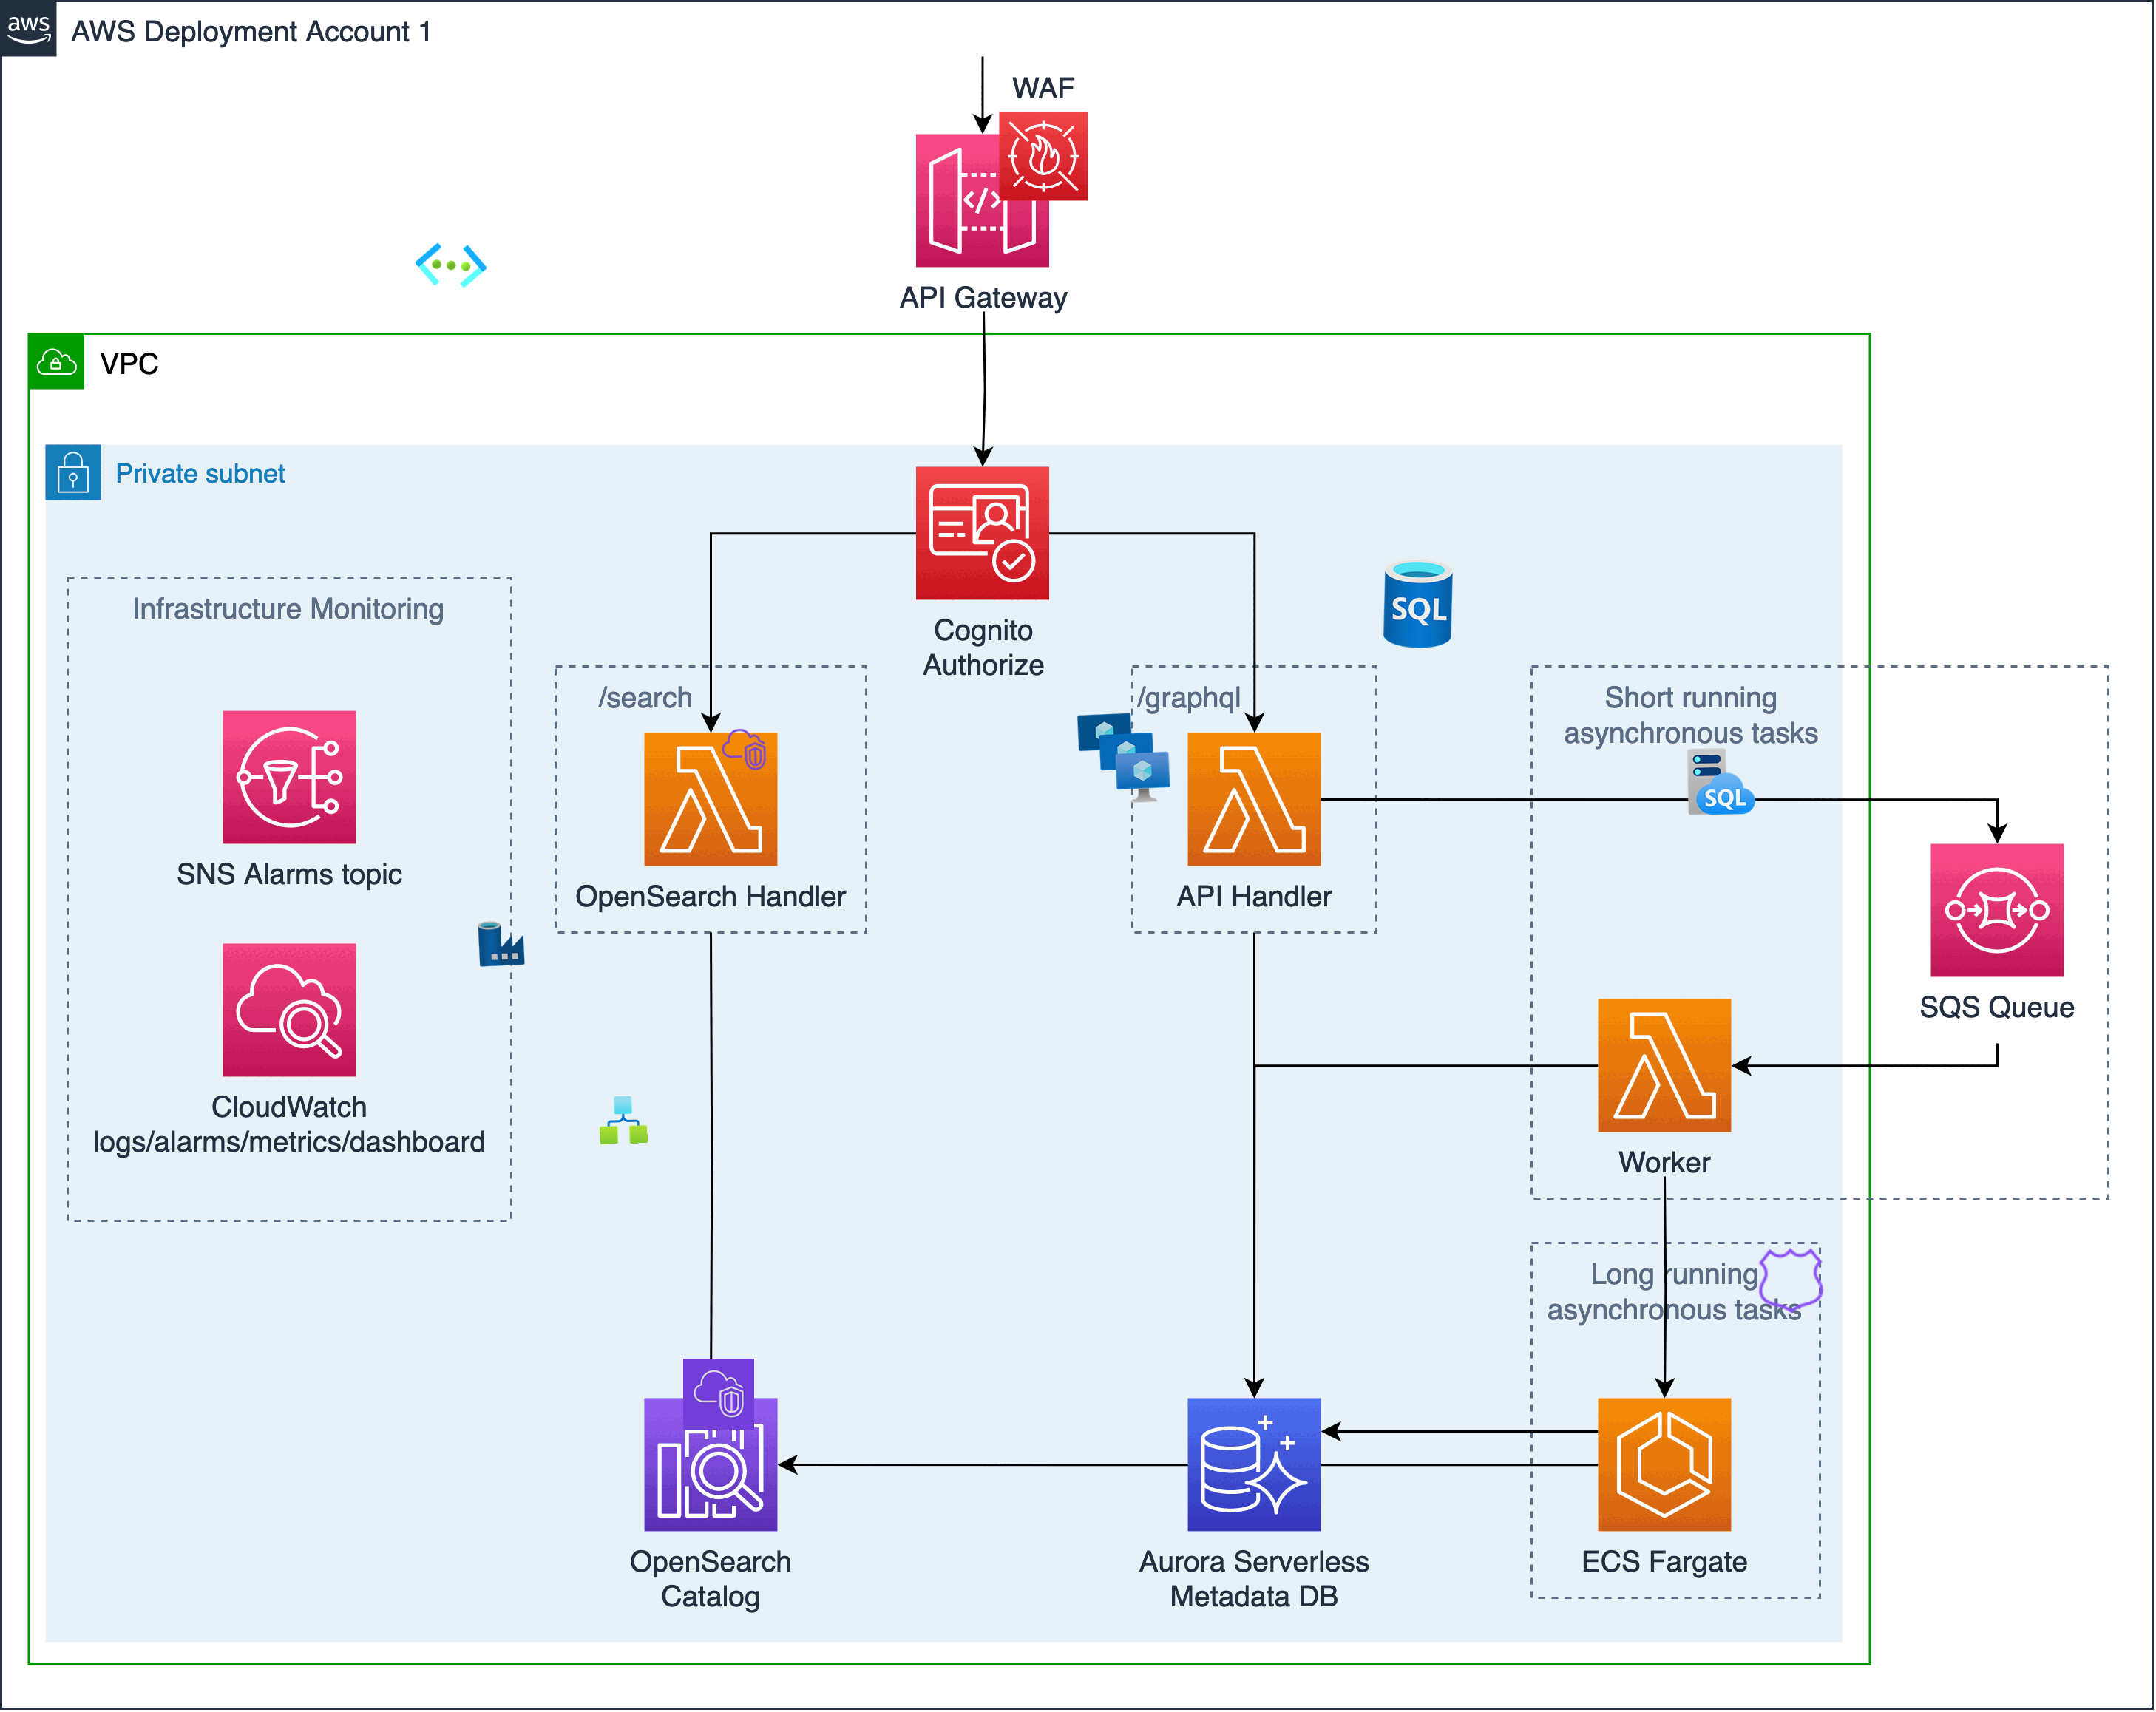aws_amazon_virtual_private_cloud: (682, 1359, 754, 1430)
aws_route_53_hosted_zone: (1755, 1243, 1827, 1317)
aws_vpc_virtual_private_cloud_vpc: (719, 726, 768, 775)
azure_data_factories: (476, 918, 527, 969)
azure_logic_apps: (599, 1095, 647, 1144)
azure_sql_database: (1369, 554, 1467, 652)
azure_sql_managed_instance: (1684, 745, 1759, 818)
azure_virtual_networks: (413, 227, 490, 304)
azure_vm_scale_sets: (1073, 706, 1172, 806)
